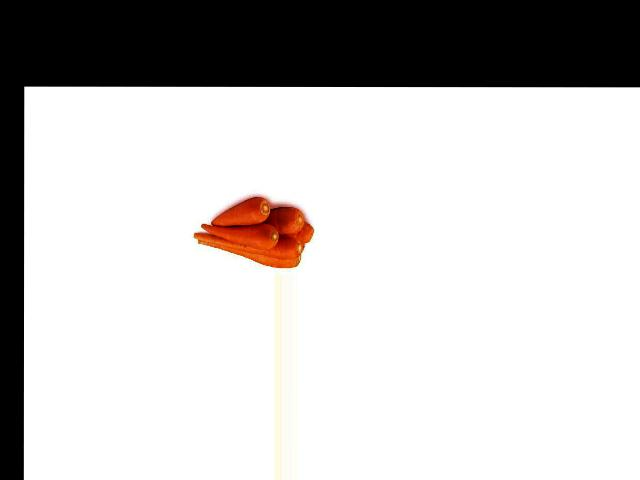carrot: (206, 195, 270, 226)
